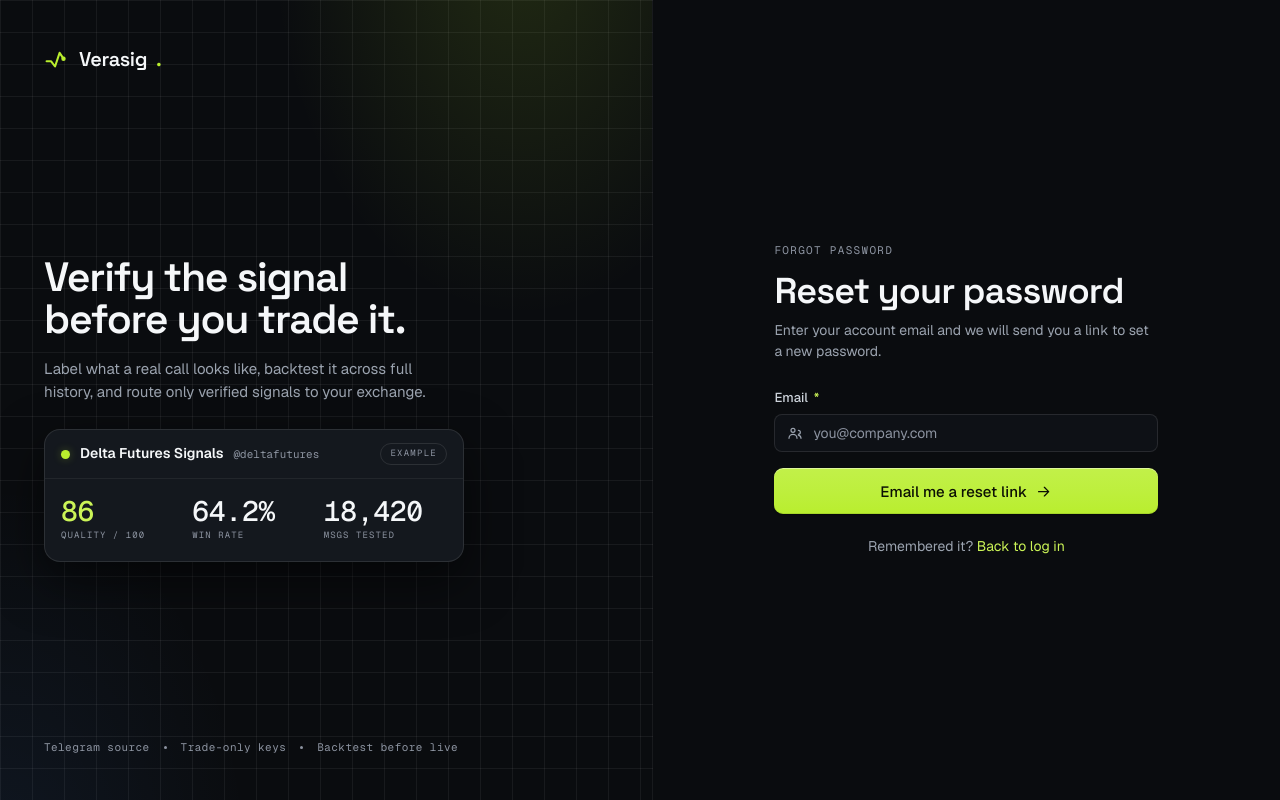
Scenario: ForgotPasswordView › shows a rejected address next to the form
Step 1. Type "ada@example" into the field labelled "Email" → coordinates (978, 433), box [811, 423, 1145, 443]
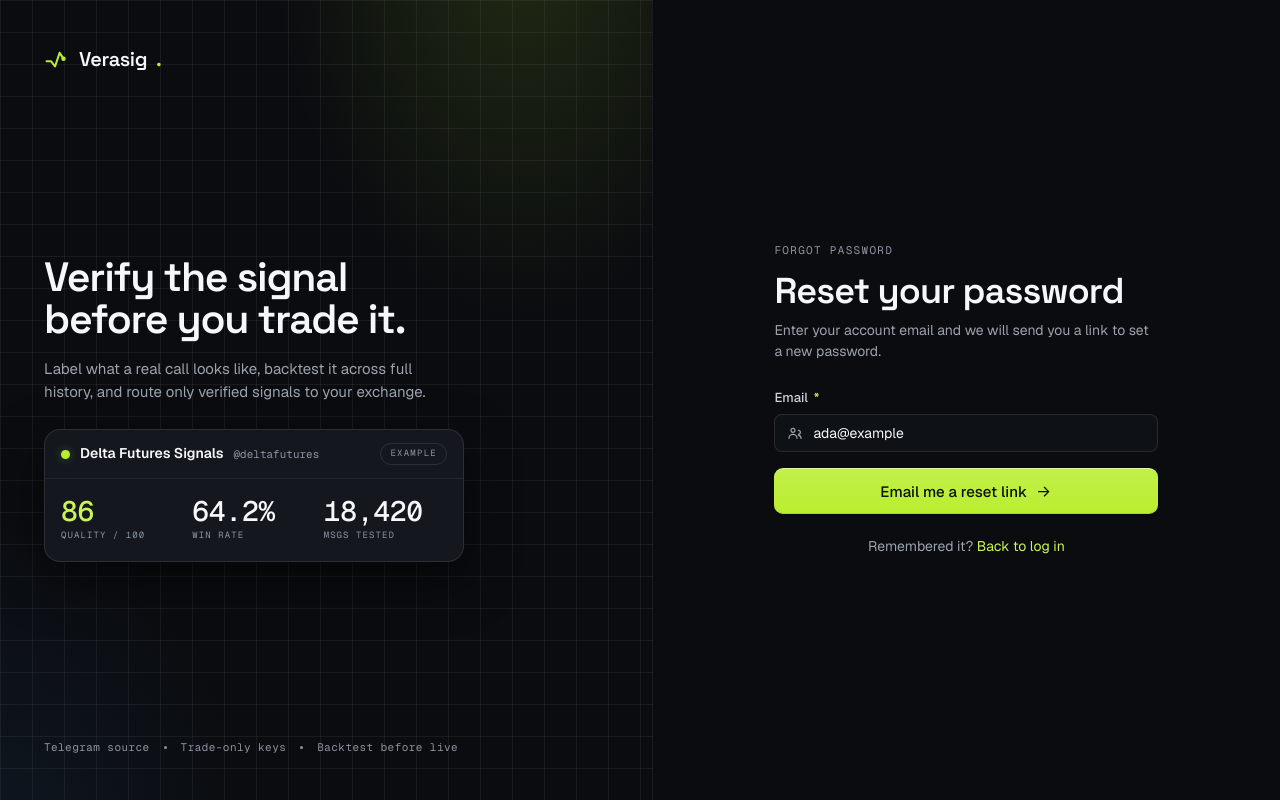
Step 2. Submit the form labelled "Email * Email me a reset link", box [774, 388, 1158, 514]
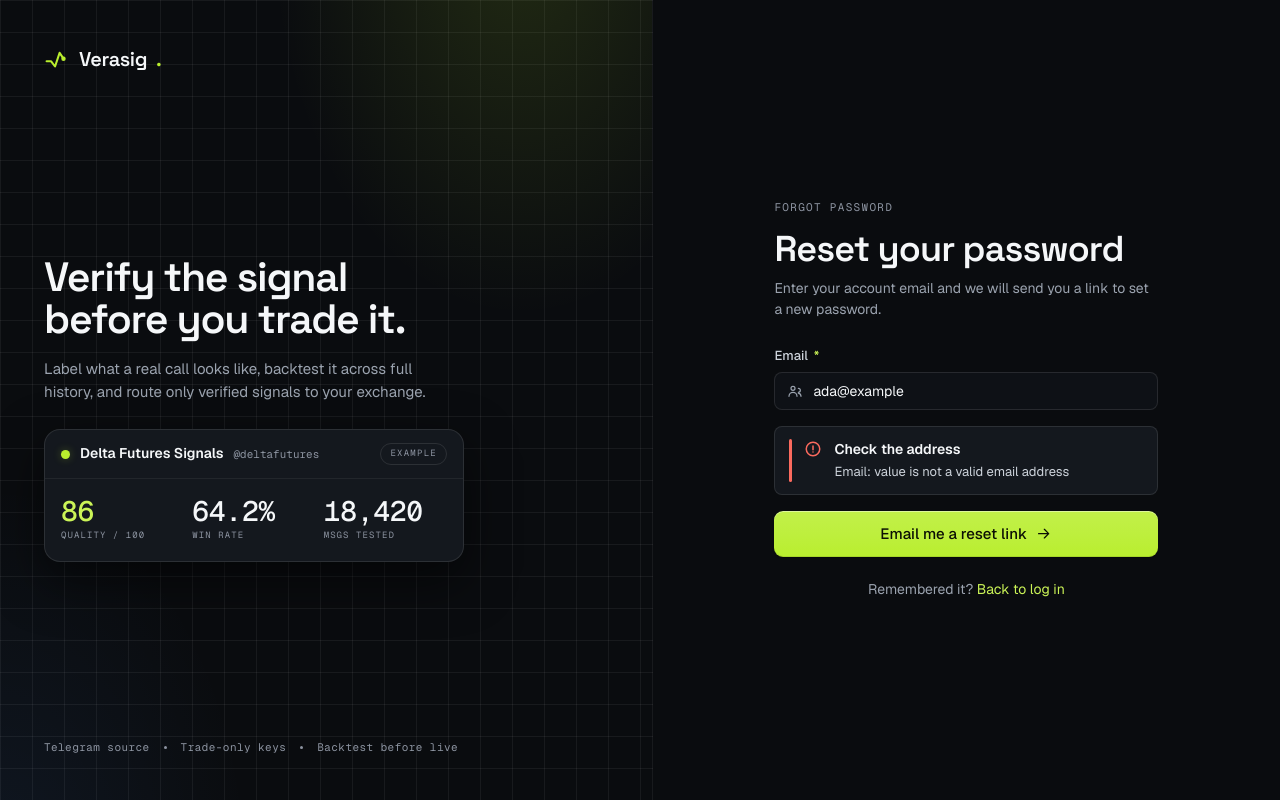
Now the text "Email: value is not a valid email address" is shown, box [834, 463, 1069, 480]
